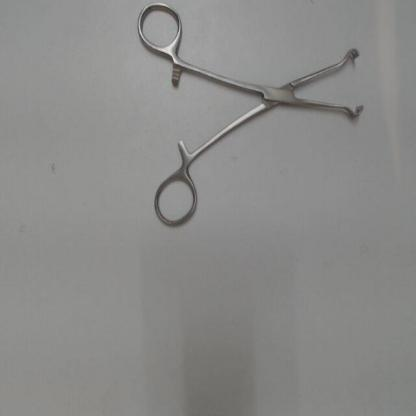Babcock Tissue Forceps: (132, 1, 370, 231)
